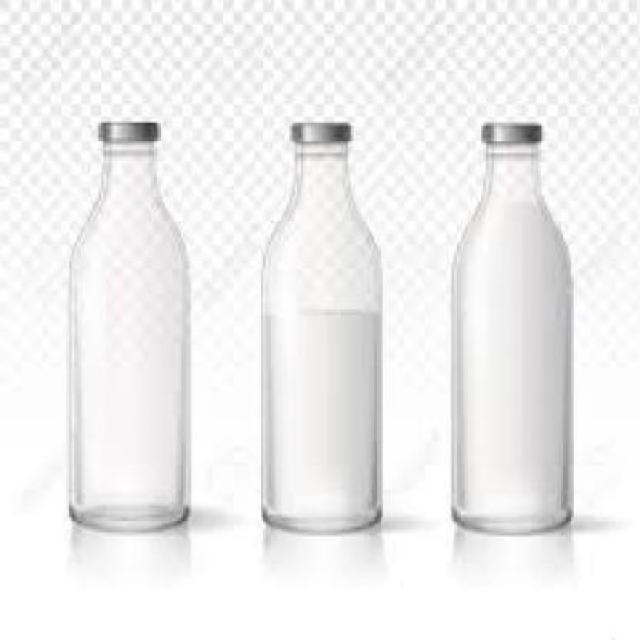kaca: (449, 141, 571, 537), (66, 138, 186, 531), (258, 142, 377, 528)
